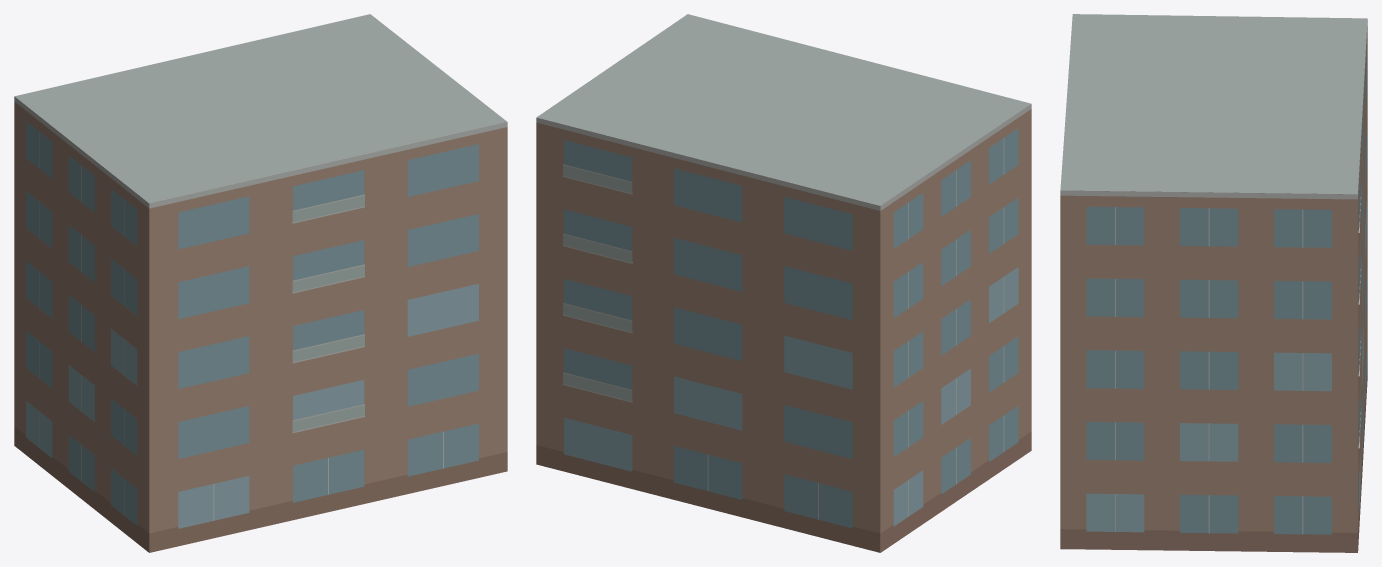
Rendered from survey-upis-32822182.glb.
The picture shows the model from 3 angles, left to right: view 1: azimuth 30°, elevation 25°; view 2: azimuth 150°, elevation 25°; view 3: azimuth 270°, elevation 25°; orthographic projection. The views are drawn at different scales.
Parts seen in each view (by area): view 1: survey-upis-32822182.tmp; view 2: survey-upis-32822182.tmp; view 3: survey-upis-32822182.tmp.
Boxes of the visible parts, x1=… form: survey-upis-32822182.tmp: x1=14, y1=14, x2=507, y2=552; survey-upis-32822182.tmp: x1=536, y1=14, x2=1031, y2=552; survey-upis-32822182.tmp: x1=1060, y1=14, x2=1367, y2=552.
Bounding box in the file's own units: 18.34 × 17 × 13.21.
